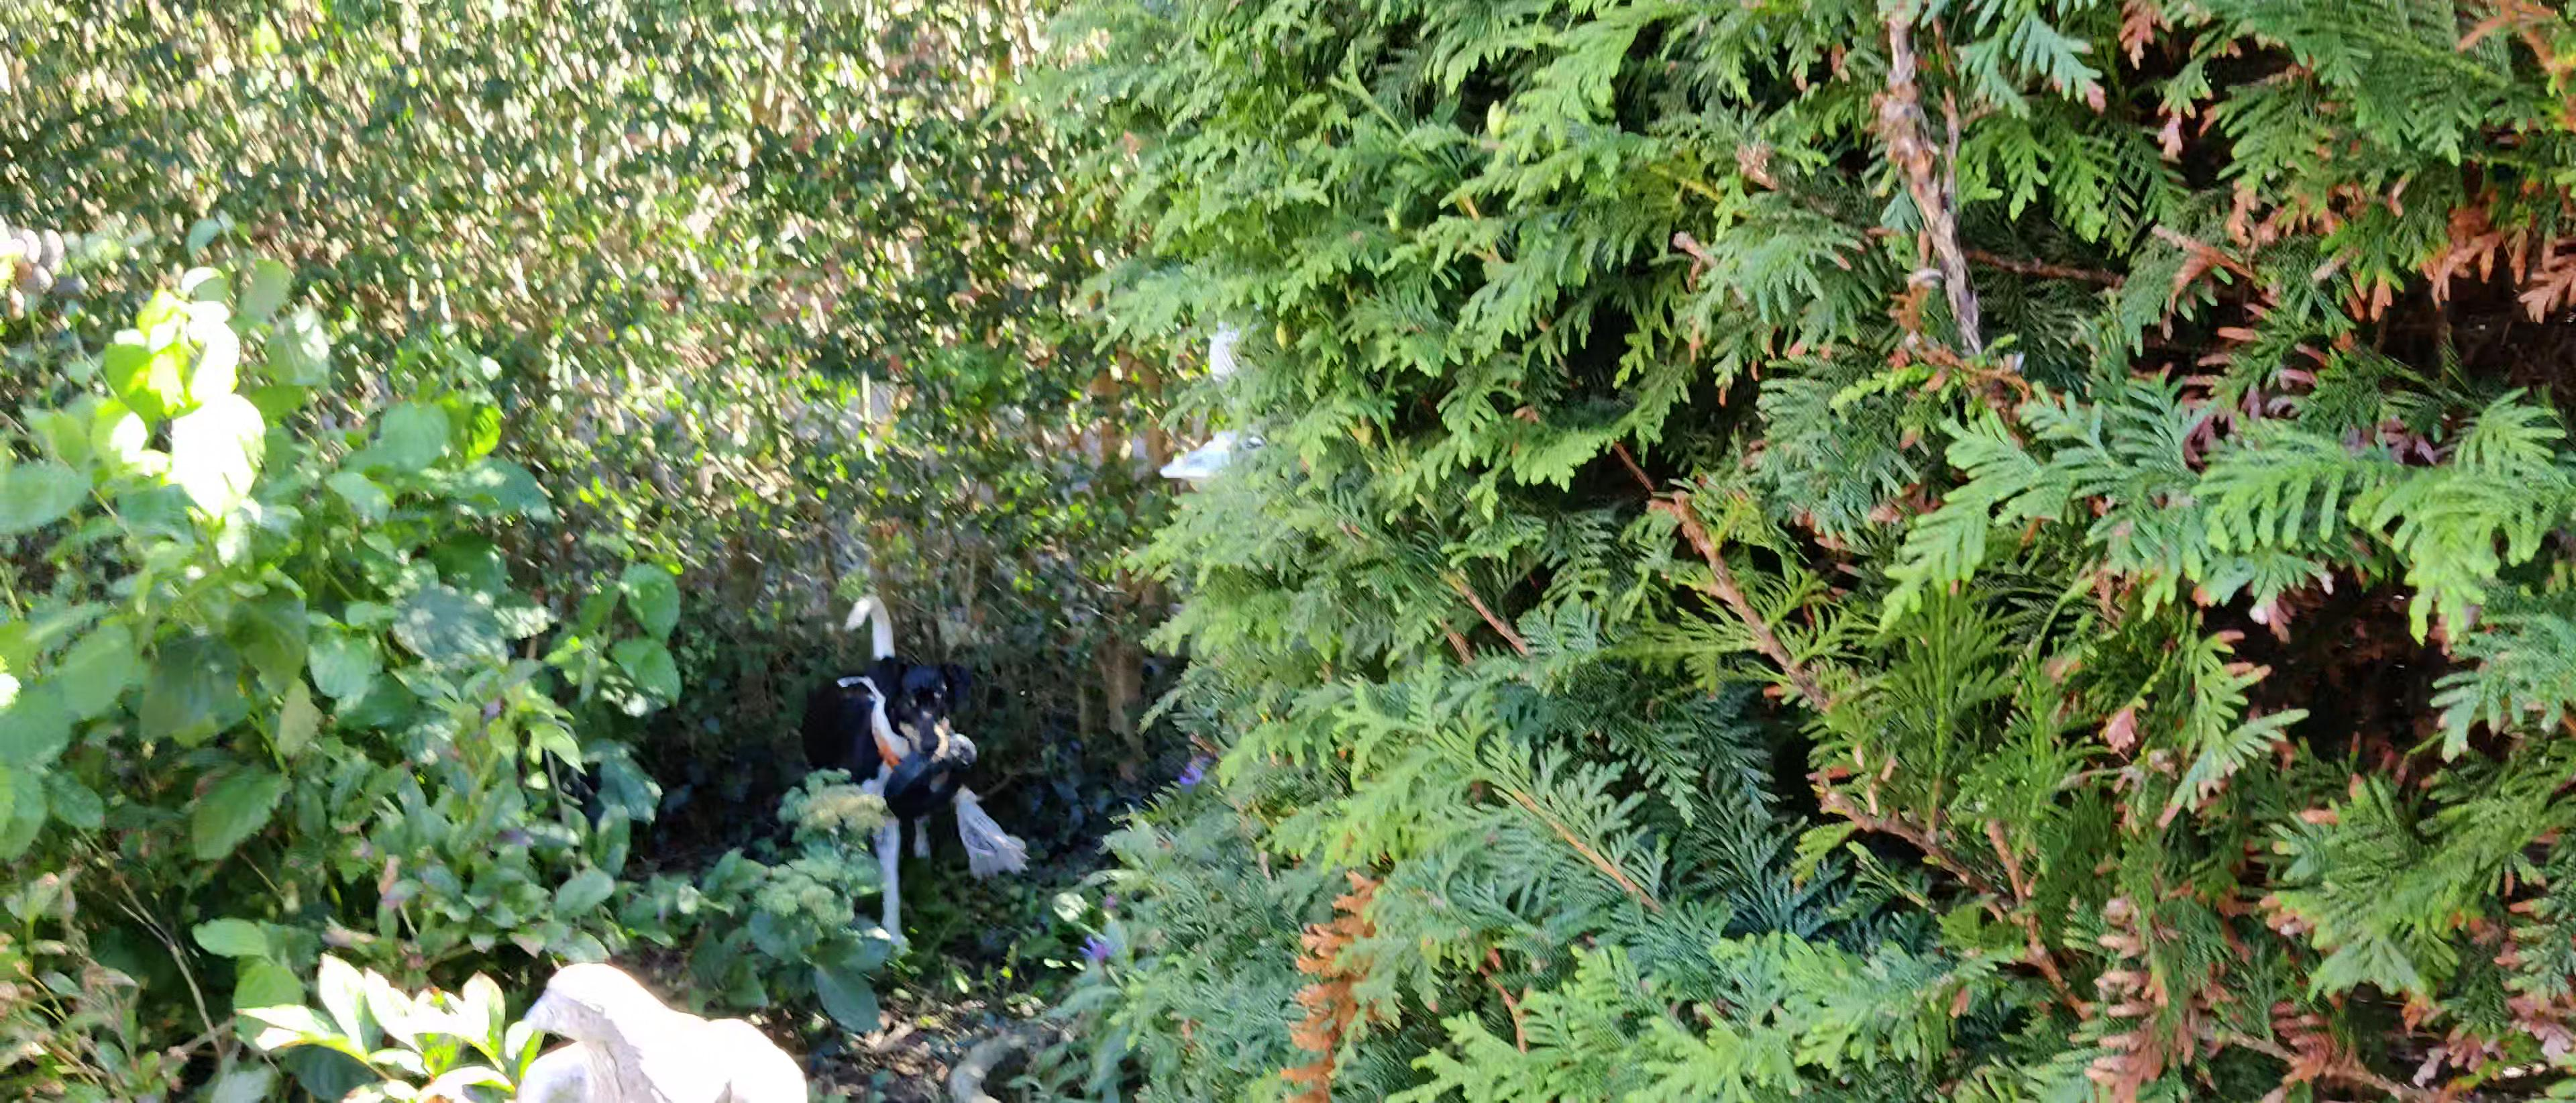Dog: (792, 587, 976, 955)
